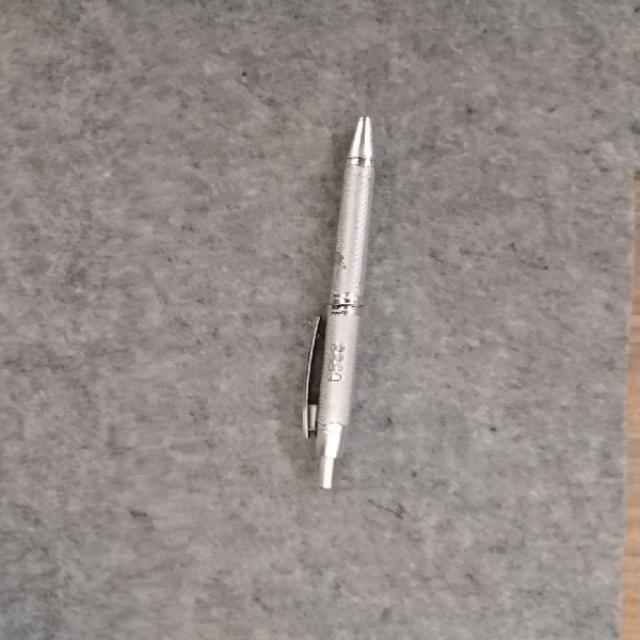signature pen: (303, 117, 374, 488)
